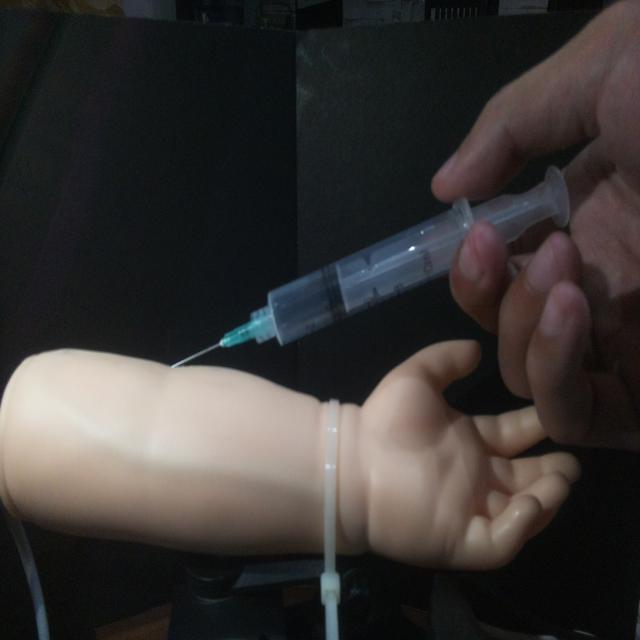23deg: (167, 160, 575, 371)
